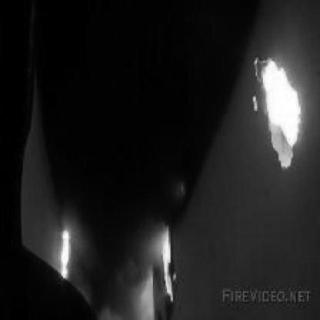Fire: (151, 219, 181, 299)
